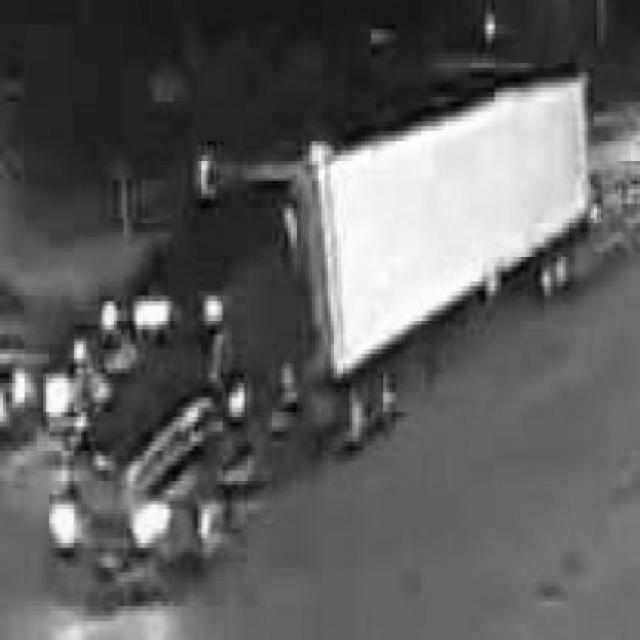Tractor Trailer: (45, 64, 593, 581)
